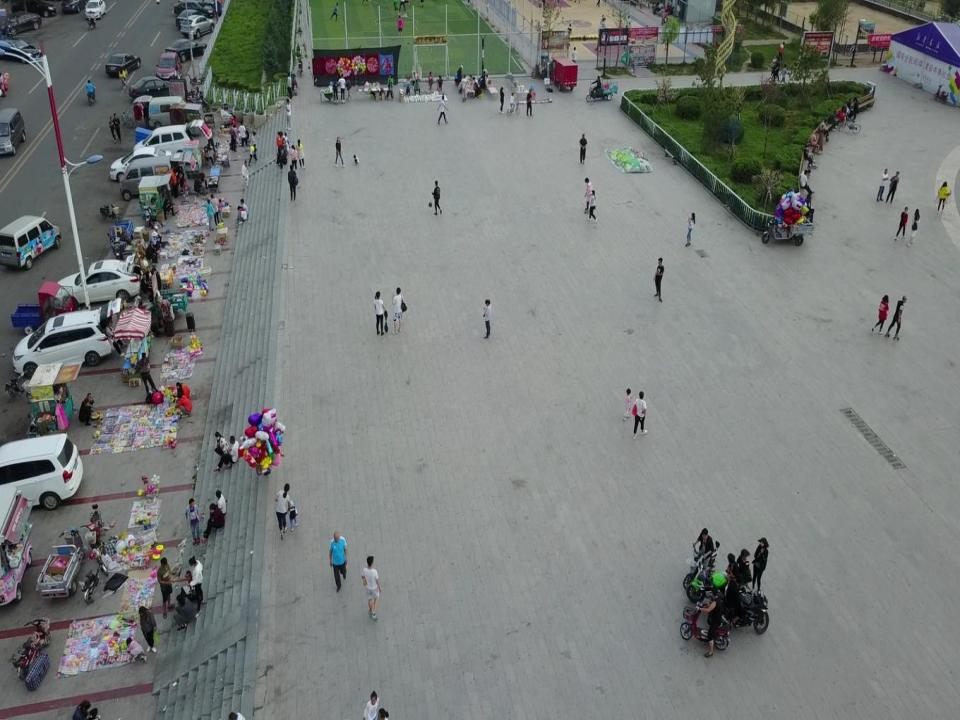car: (12, 298, 122, 378), (0, 432, 83, 513), (52, 253, 144, 309), (133, 119, 205, 160), (109, 146, 176, 182), (128, 75, 176, 102), (0, 36, 42, 64), (0, 10, 42, 35), (165, 39, 208, 63), (105, 53, 141, 77), (180, 14, 215, 38), (155, 52, 182, 82), (10, 0, 57, 17), (174, 1, 216, 20), (175, 10, 207, 30), (84, 0, 107, 20), (60, 0, 90, 13)
van: (120, 151, 196, 202), (0, 210, 61, 270), (133, 95, 195, 130), (0, 107, 26, 157)
